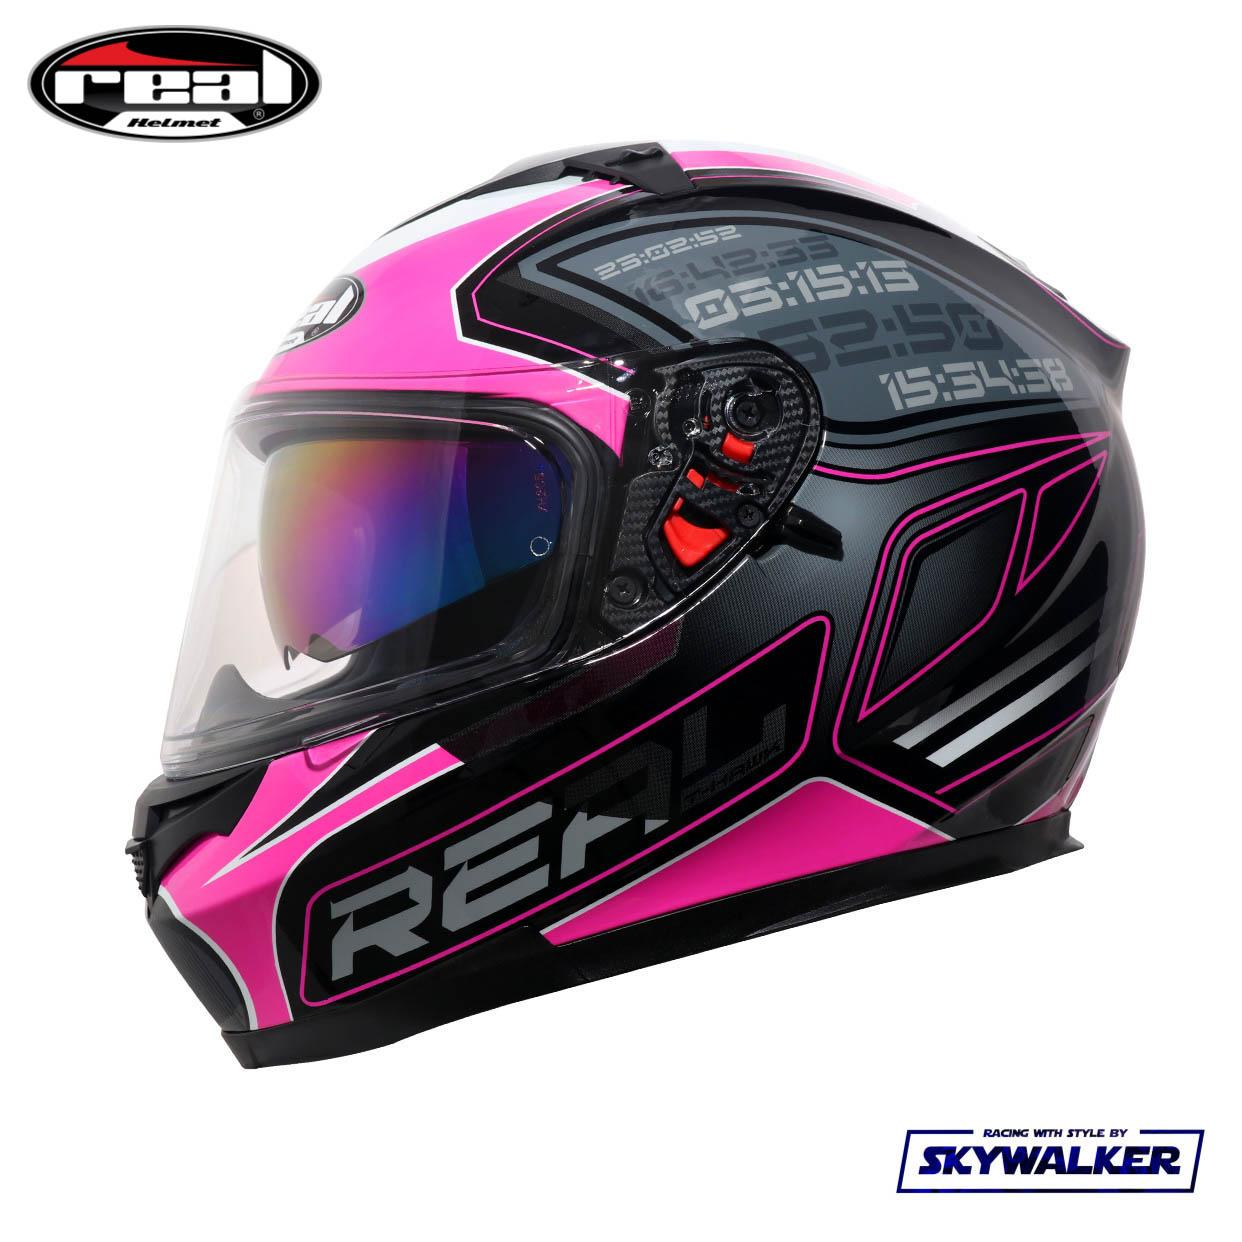helmet: (127, 143, 1145, 1068)
